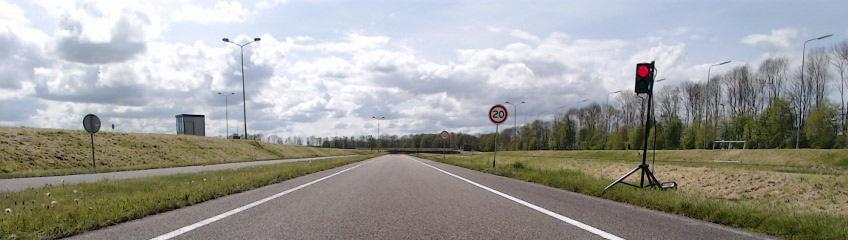Speed-limit-10km-h-: (440, 131, 449, 140)
Speed-limit-20km-h-: (489, 105, 508, 124)
TrafficLight-red: (635, 63, 651, 94)
